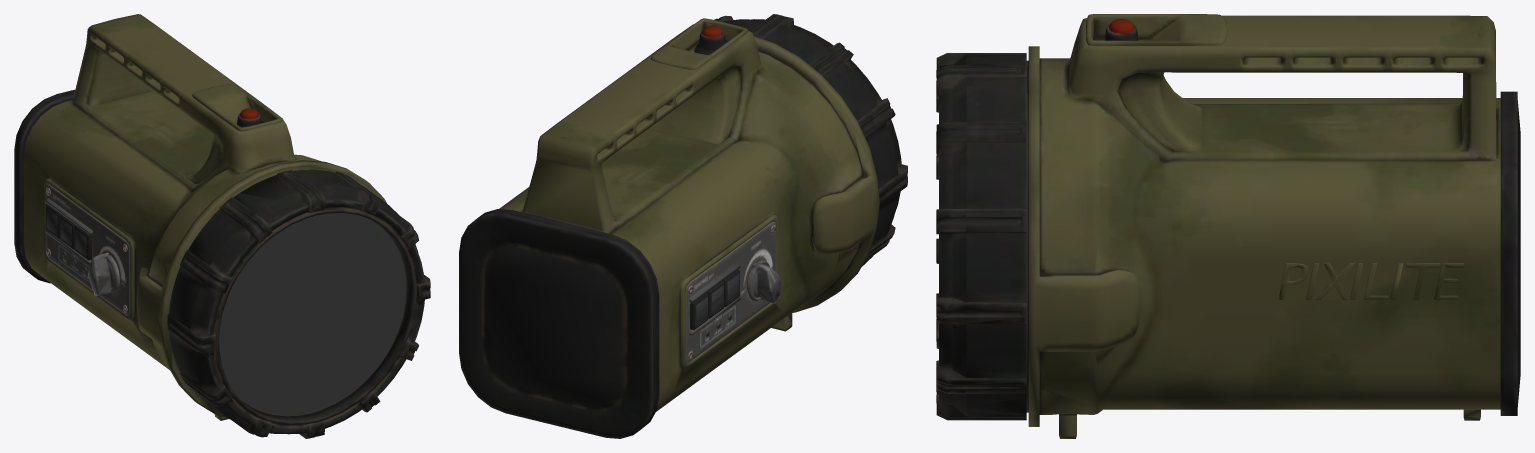
The model's file is portable_searchlight.glb.
The picture shows the model from 3 angles, left to right: view 1: azimuth 30°, elevation 25°; view 2: azimuth 150°, elevation 25°; view 3: azimuth 270°, elevation 25°; orthographic projection. The views are drawn at different scales.
Parts seen in each view (by area): view 1: portable_searchlight; view 2: portable_searchlight; view 3: portable_searchlight.
Part boxes in pixels (x1,y1,x2,y2): portable_searchlight: (14, 14, 430, 438); portable_searchlight: (459, 14, 907, 438); portable_searchlight: (936, 14, 1520, 438).
Size of the model in its own units: 0.1653 by 0.1854 by 0.2534.
2 materials, 2 textured.
